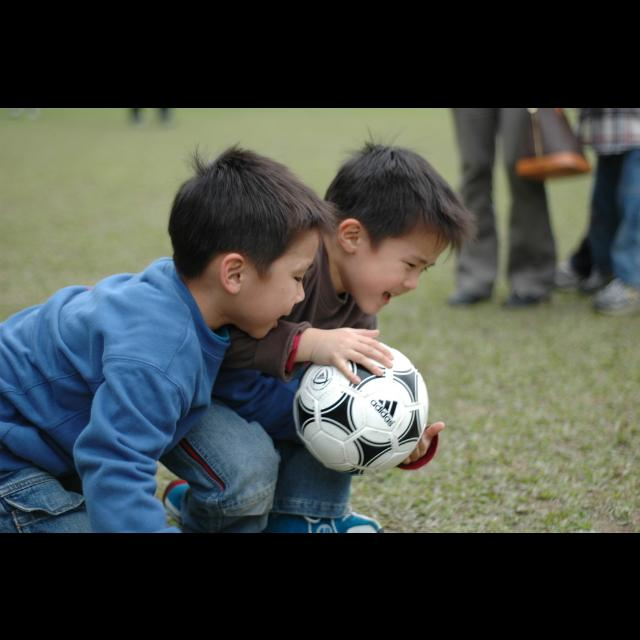Football: (291, 336, 429, 476)
